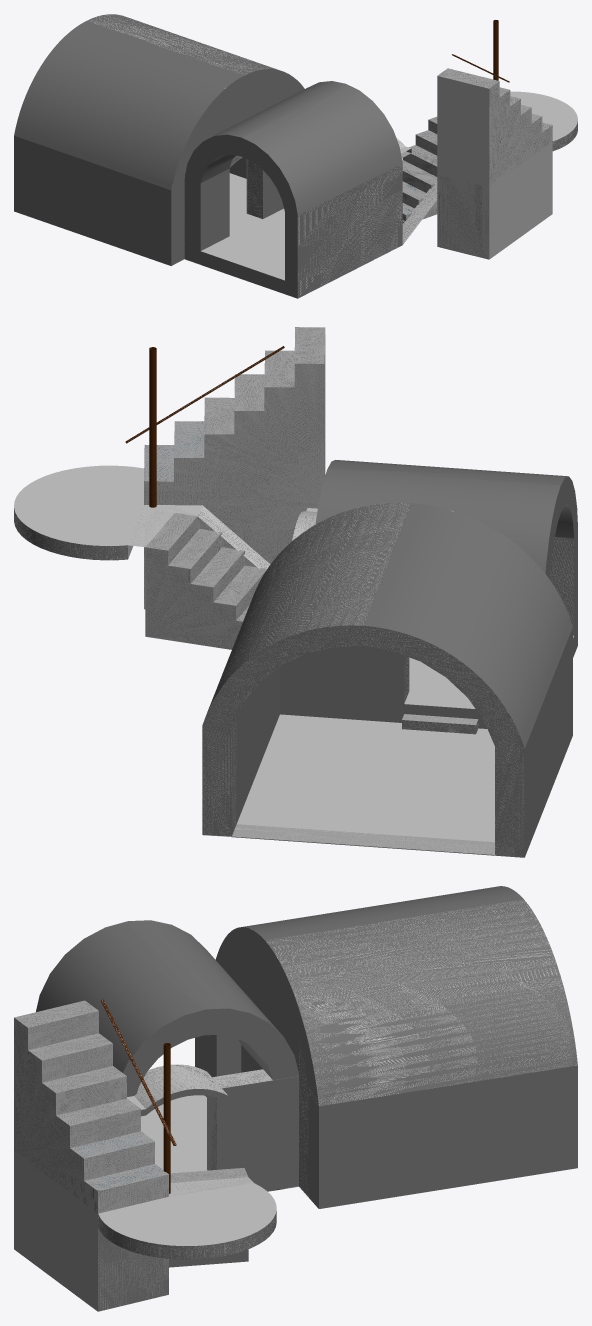
The model's file is sklep_vnitrni_steny.dae.
The picture shows the model from 3 angles, top to bottom: view 1: azimuth 30°, elevation 25°; view 2: azimuth 150°, elevation 25°; view 3: azimuth 270°, elevation 25°; orthographic projection. The views are drawn at different scales.
Parts seen in each view (by area): view 1: group_0 (×10), schody_2 (×3); view 2: group_0 (×12), schody_2 (×4), group_1; view 3: group_0 (×14), schody_2 (×5), group_1 (×2).
Boxes of the visible parts, bbox=[...] form: group_0 (×10): bbox=[14, 14, 577, 298]; schody_2 (×3): bbox=[402, 68, 552, 223]; group_0 (×12): bbox=[14, 460, 577, 857]; schody_2 (×4): bbox=[144, 327, 325, 649]; group_1: bbox=[149, 347, 156, 507]; group_0 (×14): bbox=[14, 886, 577, 1311]; schody_2 (×5): bbox=[14, 1000, 248, 1267]; group_1 (×2): bbox=[100, 999, 176, 1193].
Size of the model in its own units: 392 by 313 by 152.
Materials: 6 (2 with a texture image).
